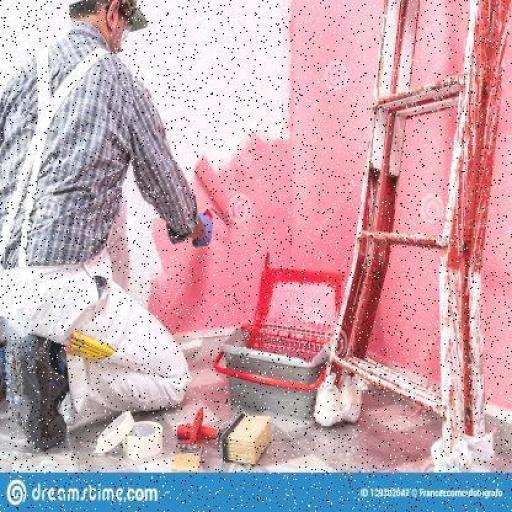person: (0, 0, 204, 451)
safety_shoe: (7, 336, 75, 450)
